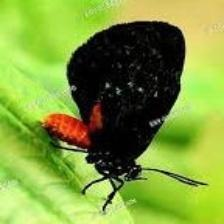butterfly: (44, 22, 185, 178)
